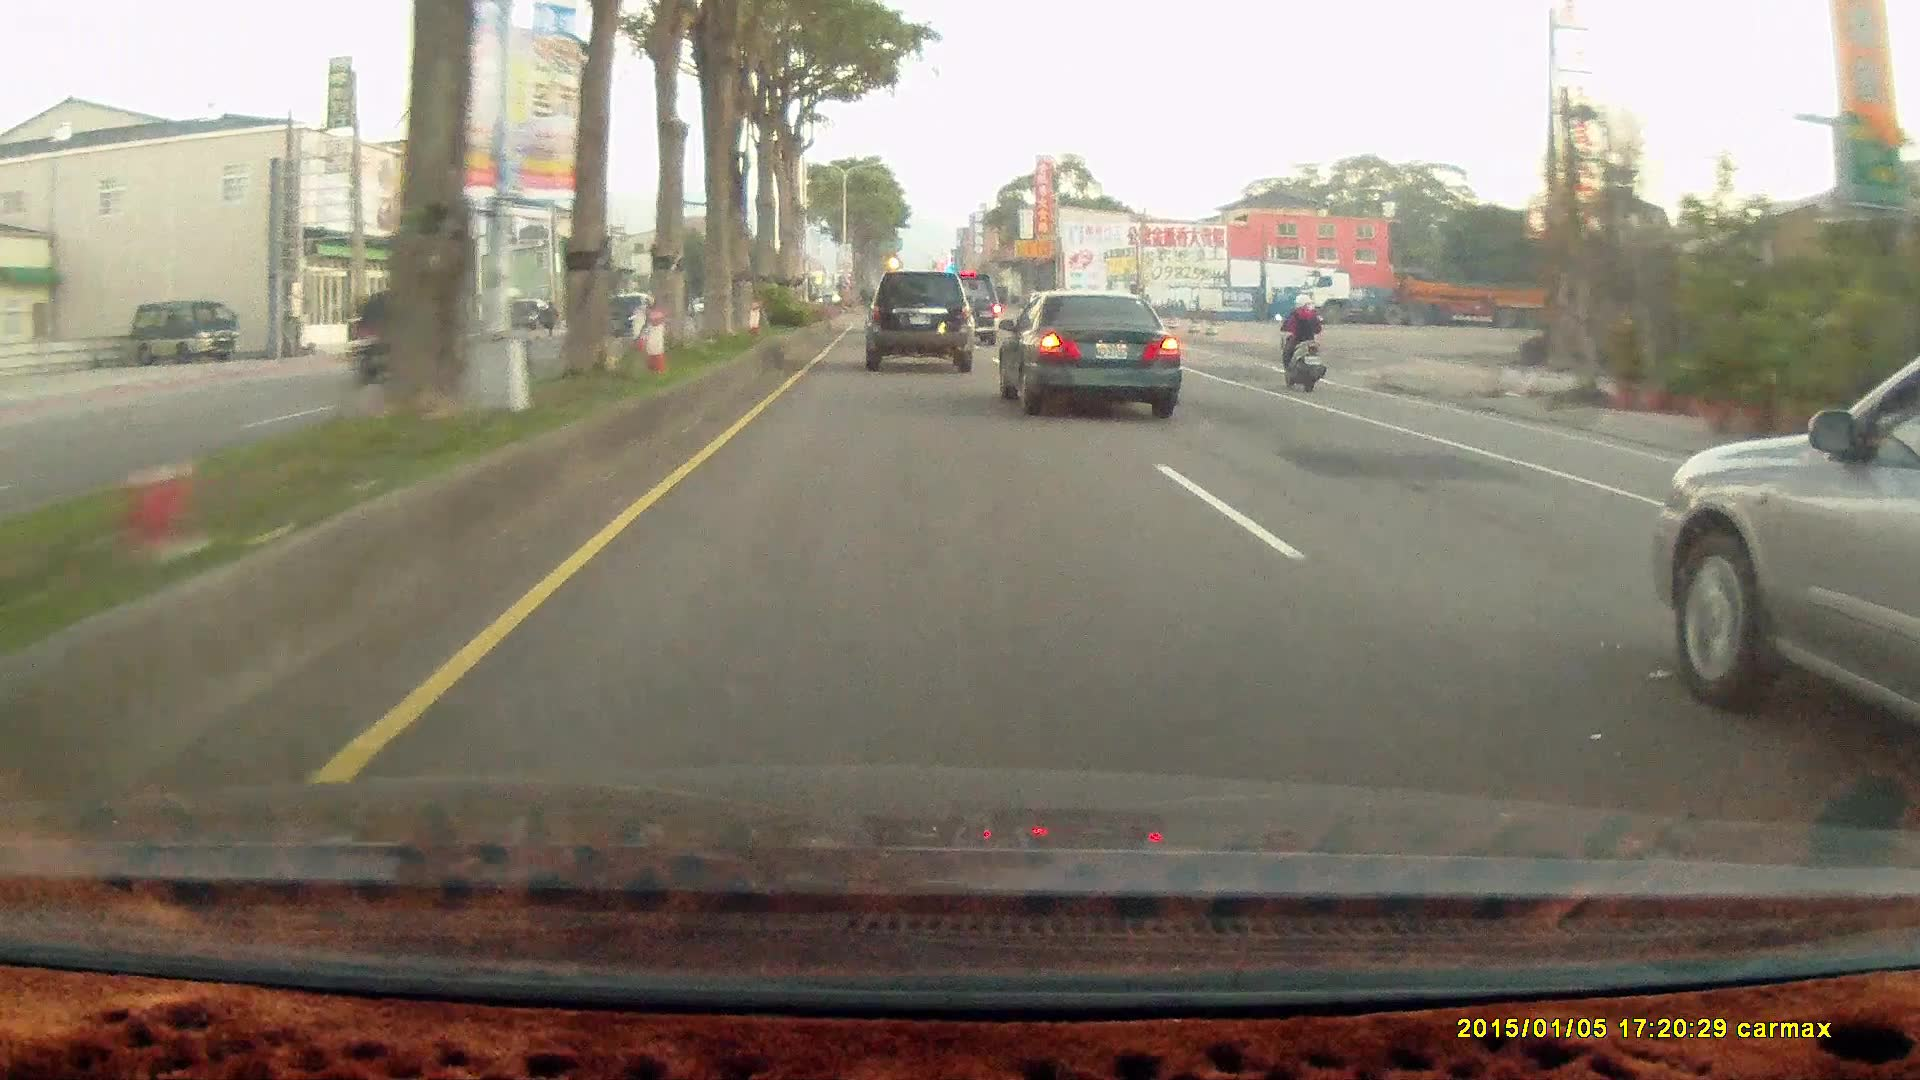rider: (1268, 285, 1335, 399), (1275, 287, 1328, 389)
vehicle: (1662, 349, 1919, 767), (995, 291, 1186, 417), (997, 287, 1181, 415), (1306, 266, 1565, 327), (350, 285, 480, 386), (865, 270, 977, 373), (862, 270, 975, 371), (129, 302, 241, 369), (129, 300, 240, 366), (931, 272, 1002, 347), (503, 297, 553, 331)
